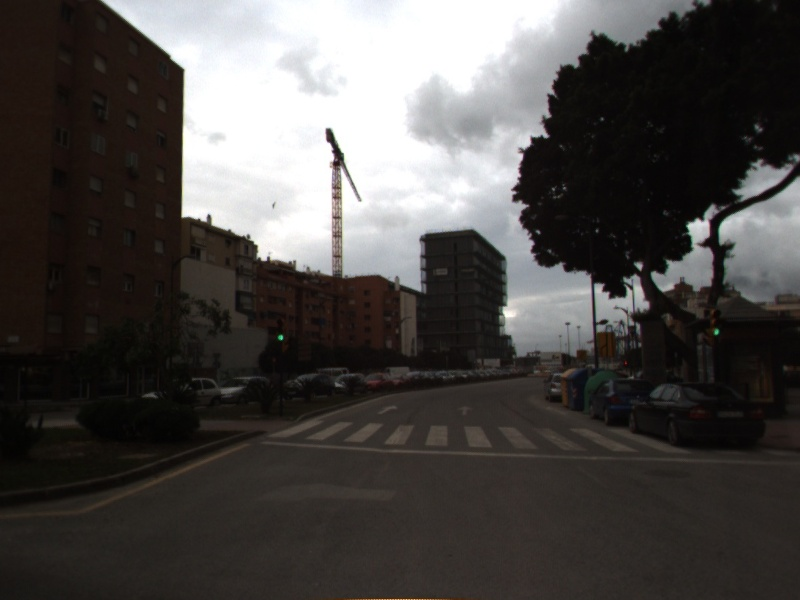STRAIGHT: (375, 403, 400, 416), (455, 404, 475, 417)
